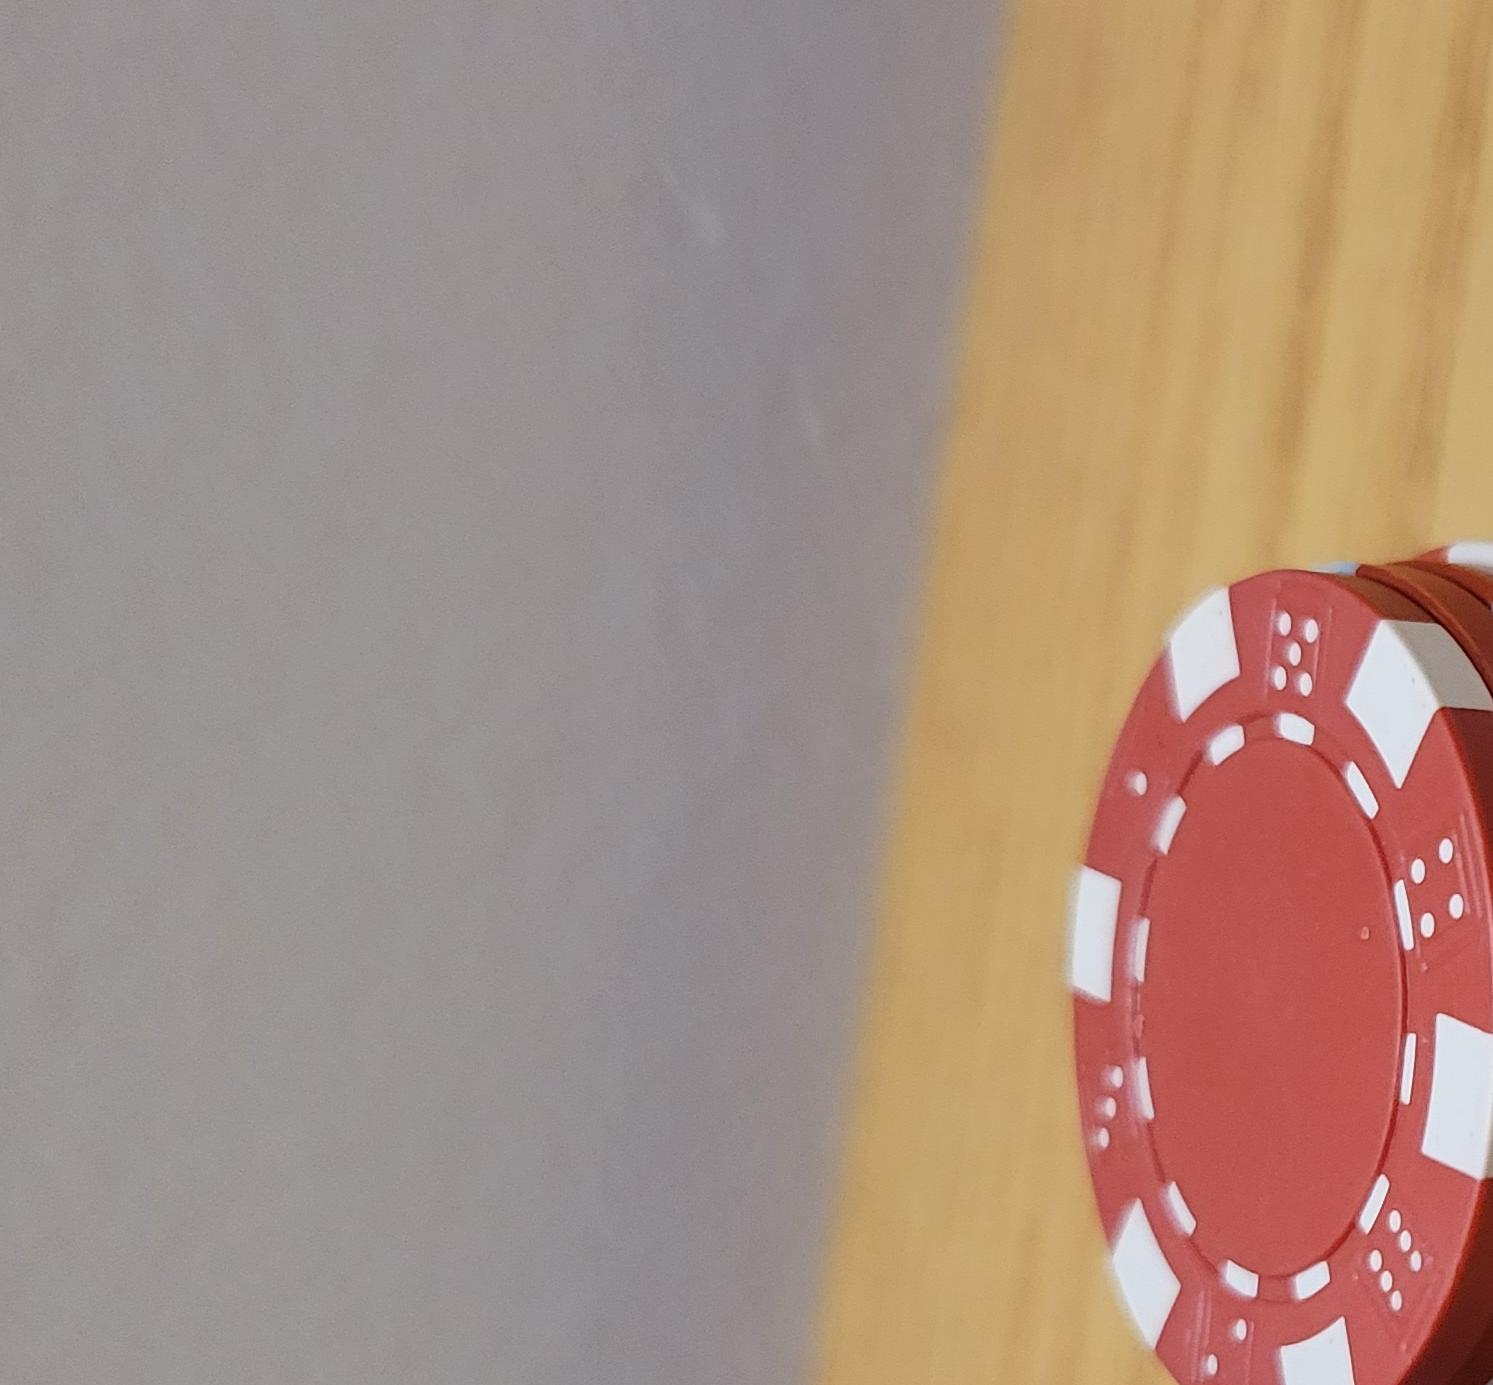Chip: (1, 185, 1095, 1385)
